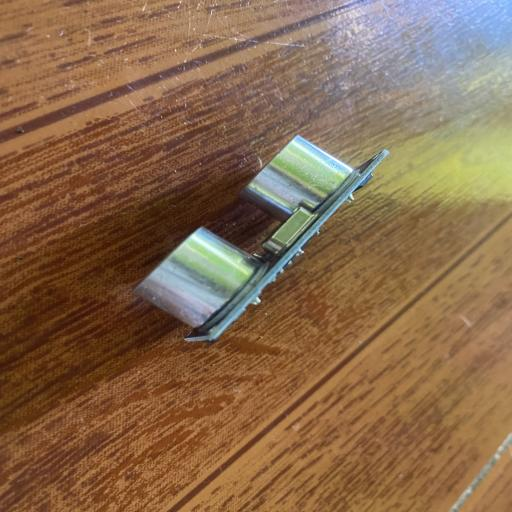Ultrasonic Sensor: (130, 134, 392, 343)
